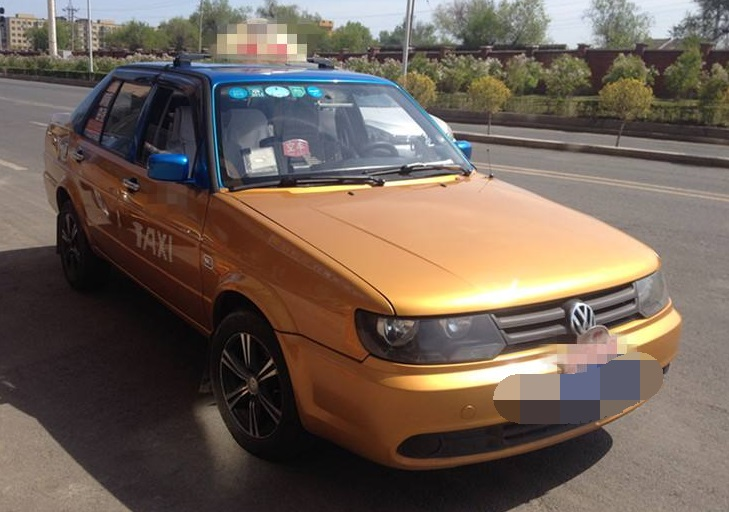taxi: (42, 49, 682, 478)
